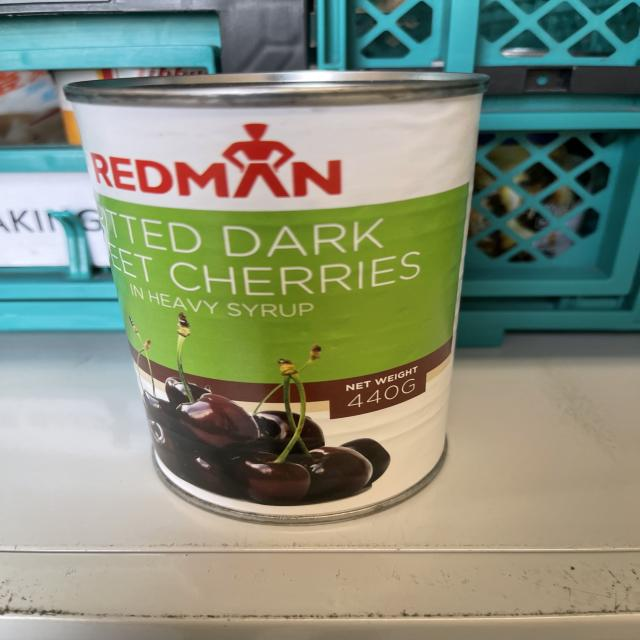object_name: (80, 79, 463, 513)
